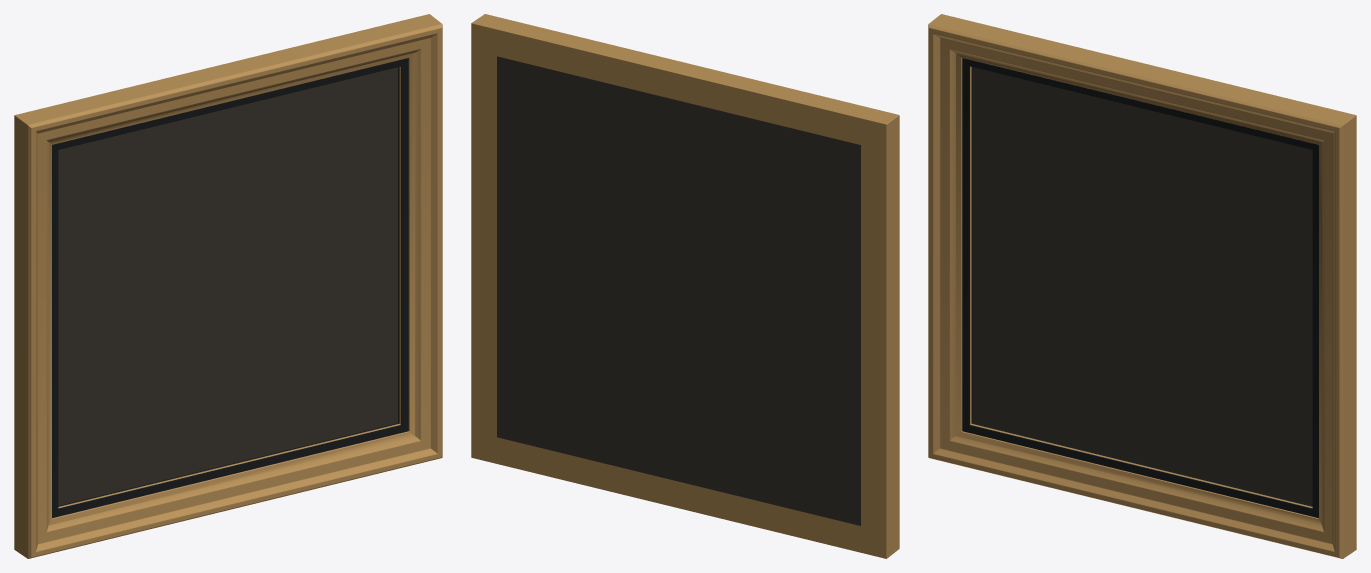
Rendered from gold-frame-only.glb.
The picture shows the model from 3 angles, left to right: view 1: azimuth 30°, elevation 25°; view 2: azimuth 150°, elevation 25°; view 3: azimuth 330°, elevation 25°; orthographic projection.
Visible parts, largest first — view 1: Rigid backing panel, Gold stepped square frame, Dark inner border, Fine gold inner lip; view 2: Rigid backing panel, Gold stepped square frame; view 3: Rigid backing panel, Gold stepped square frame, Dark inner border, Fine gold inner lip.
Part boxes in pixels (x1,y1,x2,y2): Rigid backing panel: (58,67,398,505); Gold stepped square frame: (14,14,442,558); Dark inner border: (52,58,408,517); Fine gold inner lip: (58,66,400,508); Rigid backing panel: (497,56,860,525); Gold stepped square frame: (471,14,899,558); Rigid backing panel: (972,67,1312,505); Gold stepped square frame: (928,14,1356,558); Dark inner border: (962,58,1318,517); Fine gold inner lip: (970,66,1312,508).
Bounding box in the file's own units: 1.21 × 1.21 × 0.0755.
